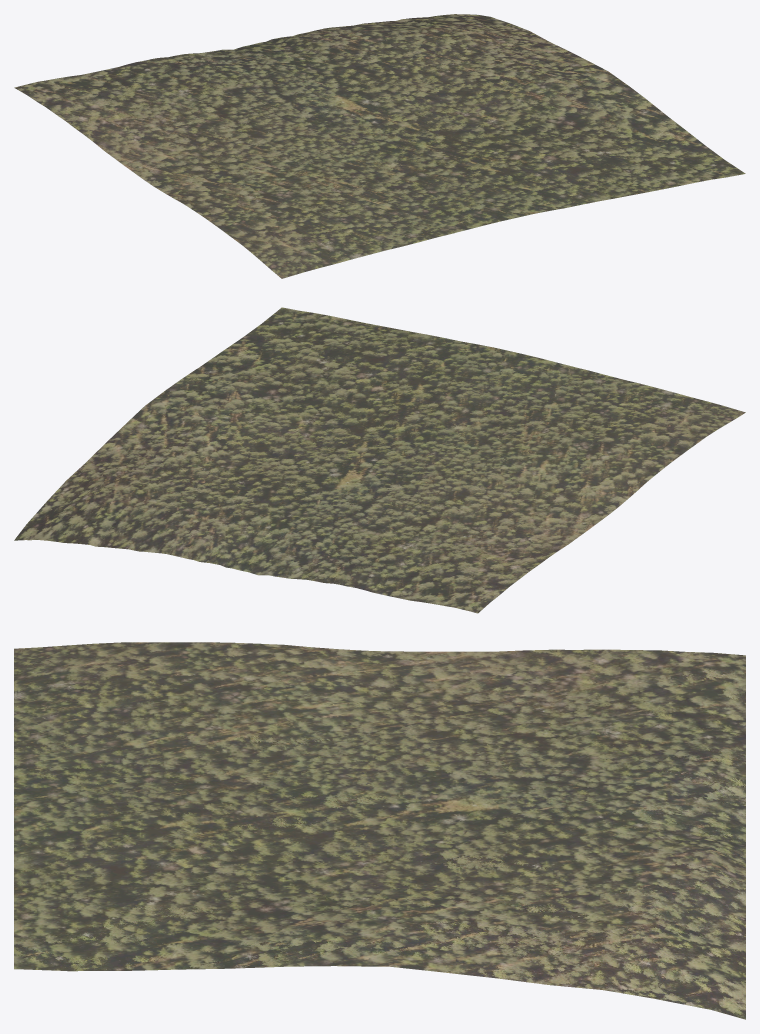
The model's file is CM_Terrain_24493530_6816722.fbx.
3 renders of one model, top to bottom at view 1: azimuth 30°, elevation 25°; view 2: azimuth 150°, elevation 25°; view 3: azimuth 270°, elevation 25°, orthographic. The views are drawn at different scales.
Parts seen in each view (by area): view 1: CM_Terrain_24493530_6816722_LOD0; view 2: CM_Terrain_24493530_6816722_LOD0; view 3: CM_Terrain_24493530_6816722_LOD0.
Boxes of the visible parts, box(x1,y1,x2,y2) form: CM_Terrain_24493530_6816722_LOD0: box(14, 14, 745, 278); CM_Terrain_24493530_6816722_LOD0: box(14, 307, 745, 613); CM_Terrain_24493530_6816722_LOD0: box(14, 642, 745, 1019).
Size of what is drawn, in the model's own units: 205 by 21.7 by 205.
